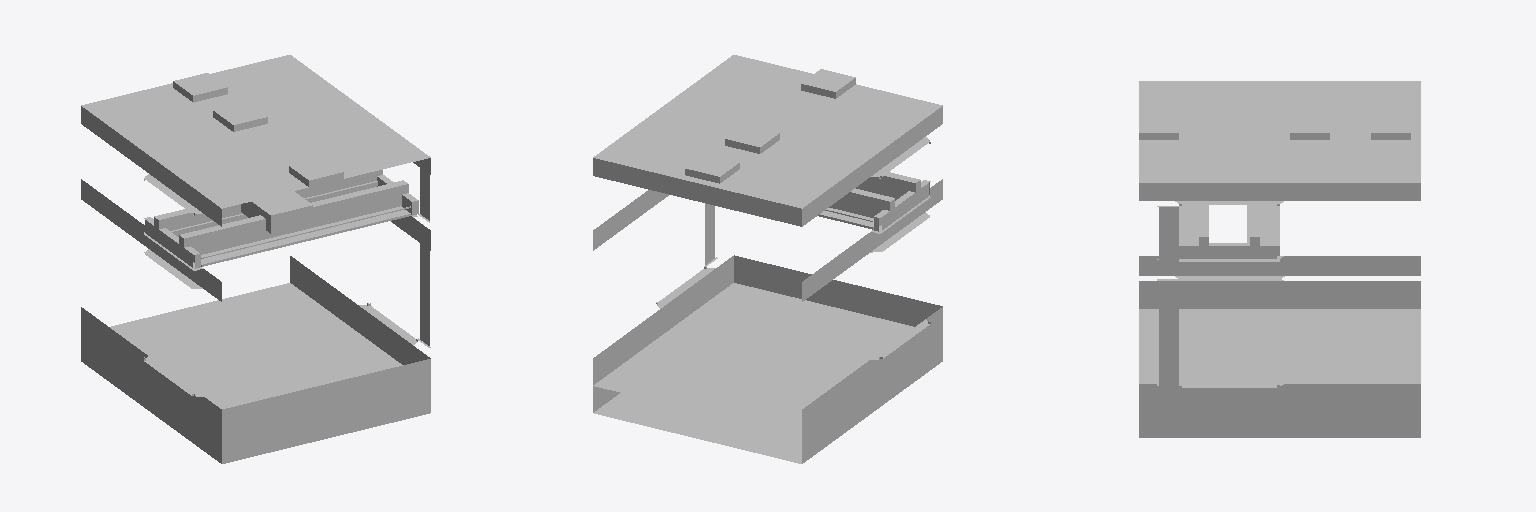
The model's file is craneblah.obj.
3 renders of one model, left to right at view 1: azimuth 30°, elevation 25°; view 2: azimuth 150°, elevation 25°; view 3: azimuth 270°, elevation 25°, orthographic.
Visible parts, largest first — view 1: CAVE1; view 2: CAVE1; view 3: CAVE1.
Boxes of the visible parts, <box> form: CAVE1: <box>81,55,430,463</box>; CAVE1: <box>593,55,942,463</box>; CAVE1: <box>1139,81,1420,437</box>.
Bounding box in the file's own units: 832 × 920 × 896.